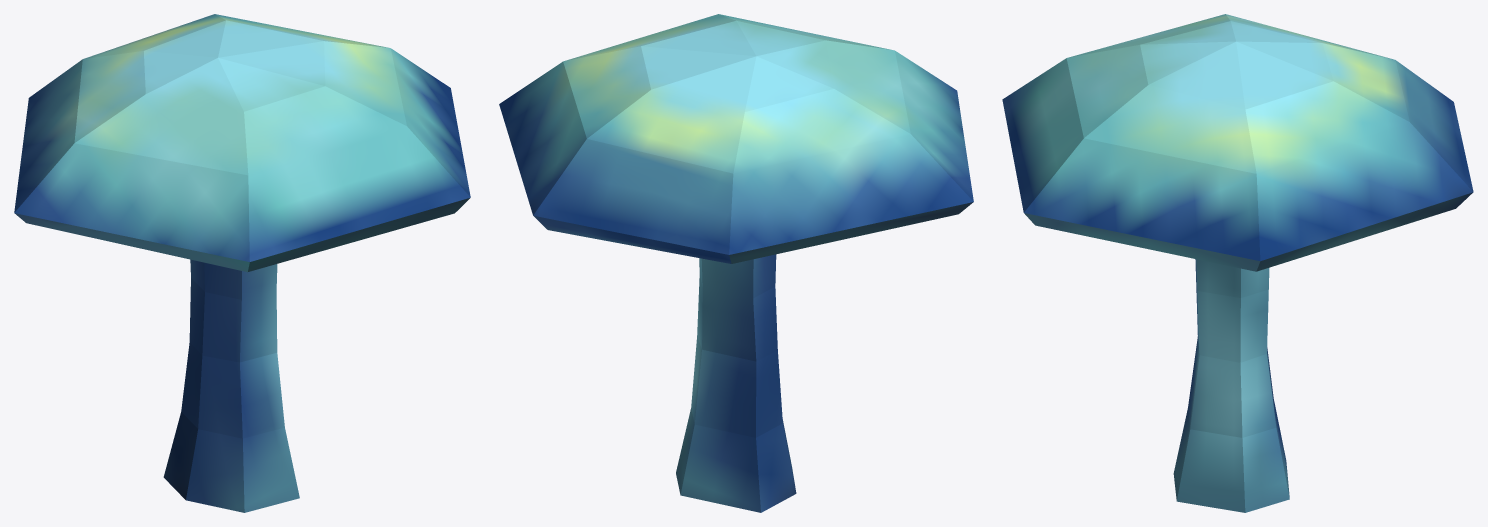
Rendered from big_mushroom.fbx.
3 views of the same model, side by side, from view 1: azimuth 30°, elevation 25°; view 2: azimuth 150°, elevation 25°; view 3: azimuth 270°, elevation 25° (orthographic).
Parts seen in each view (by area): view 1: blue_mushroom; view 2: blue_mushroom; view 3: blue_mushroom.
Part boxes in pixels (bbox=[...]): blue_mushroom: bbox=[14, 14, 470, 512]; blue_mushroom: bbox=[499, 14, 973, 512]; blue_mushroom: bbox=[1002, 14, 1473, 512].
Size of the model in its own units: 4.35 by 3.94 by 3.88.
Materials: 1 (1 with a texture image).
